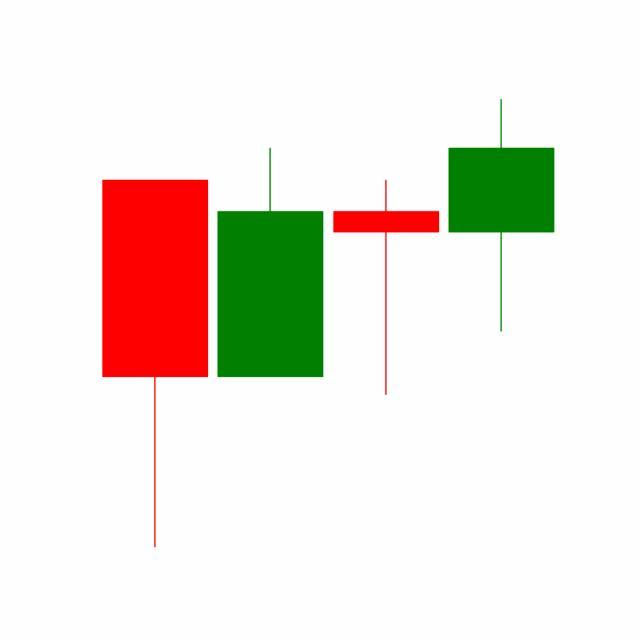Spinning Top: (329, 178, 445, 399)
